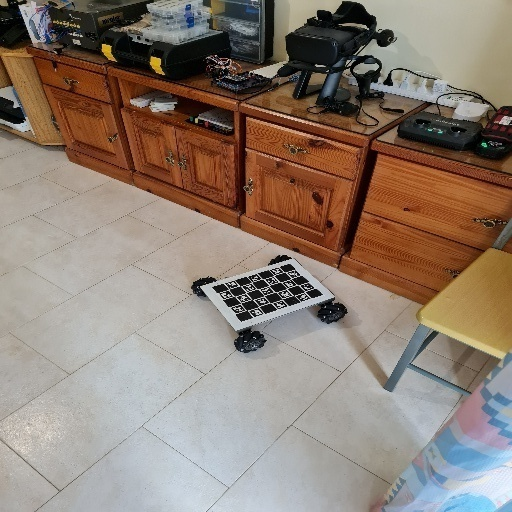Omniwheel: (192, 253, 351, 354)
